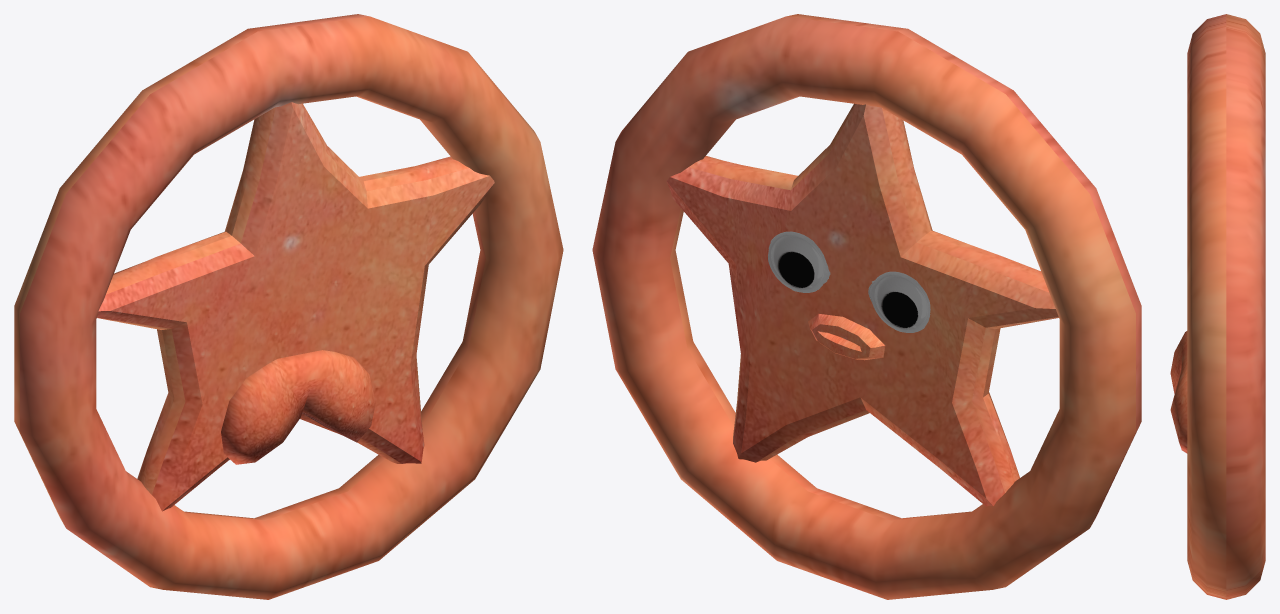
The model's file is StarringWheel.fbx.
3 views of the same model, side by side, from view 1: azimuth 30°, elevation 25°; view 2: azimuth 150°, elevation 25°; view 3: azimuth 270°, elevation 25° (orthographic). The views are drawn at different scales.
Visible parts, largest first — view 1: Torus.001, Plane.001, Sphere.002; view 2: Torus.001, Plane.001, Wobble Eye.003, Torus.004; view 3: Torus.001, Sphere.002.
Part boxes in pixels (bbox=[...]): Torus.001: bbox=[14, 14, 563, 599]; Plane.001: bbox=[97, 102, 494, 511]; Sphere.002: bbox=[221, 350, 375, 464]; Torus.001: bbox=[592, 14, 1141, 599]; Plane.001: bbox=[666, 103, 1058, 506]; Wobble Eye.003: bbox=[768, 231, 930, 332]; Torus.004: bbox=[808, 314, 885, 360]; Torus.001: bbox=[1187, 14, 1265, 599]; Sphere.002: bbox=[1170, 331, 1187, 453].
Size of the model in its own units: 273 by 274 by 44.51.
